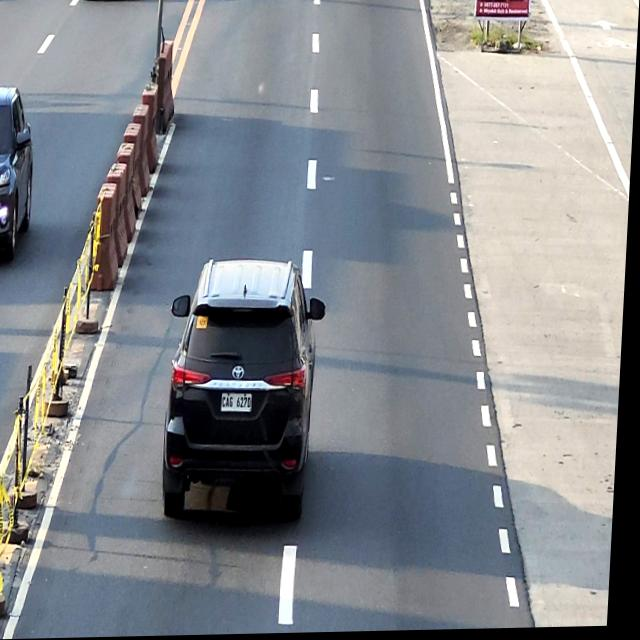Car: (164, 257, 331, 526), (0, 86, 39, 255)
License-Plate: (225, 394, 257, 415)
